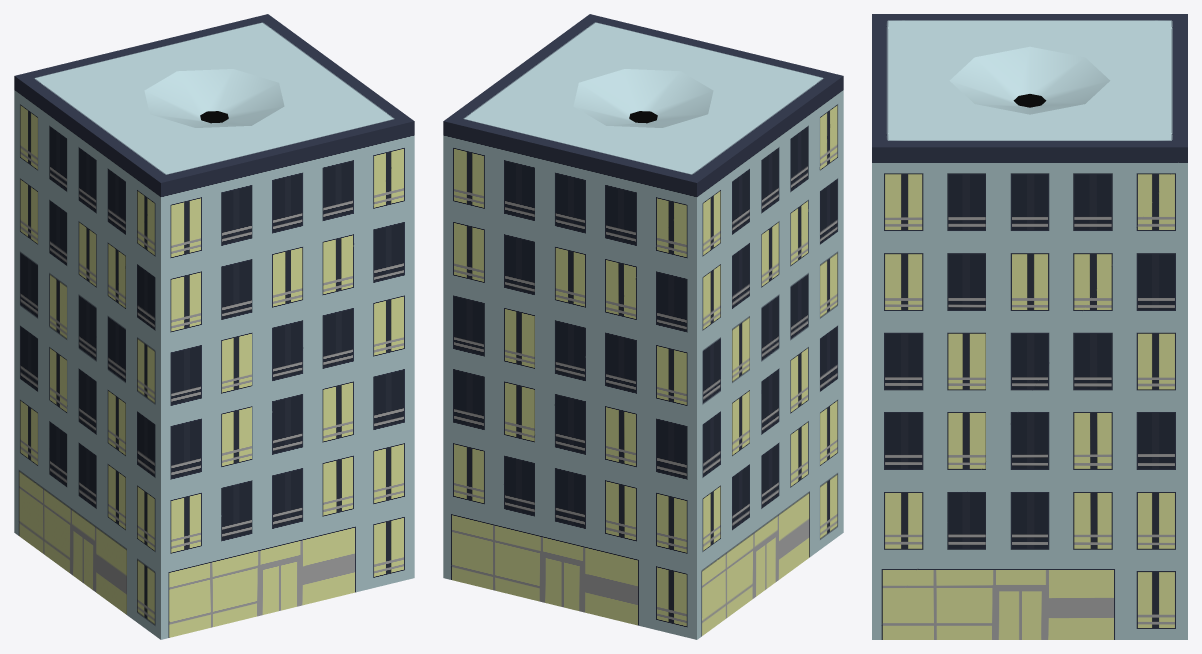
File: SM_BuildingWithHole.fbx
3 views of the same model, side by side, from view 1: azimuth 30°, elevation 25°; view 2: azimuth 150°, elevation 25°; view 3: azimuth 270°, elevation 25° (orthographic). The views are drawn at different scales.
Parts seen in each view (by area): view 1: pPlane2; view 2: pPlane2; view 3: pPlane2.
Part boxes in pixels (x1,y1,x2,y2): pPlane2: [14, 14, 414, 639]; pPlane2: [443, 14, 843, 639]; pPlane2: [872, 14, 1187, 639].
Bounding box in the file's own units: 1322 × 2276 × 1322.
2 materials, 1 textured.
